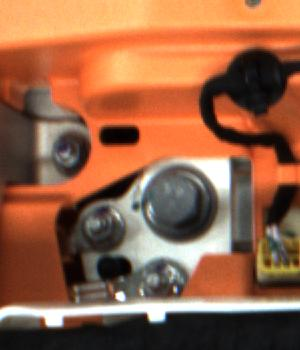nut_b: (139, 162, 218, 241)
